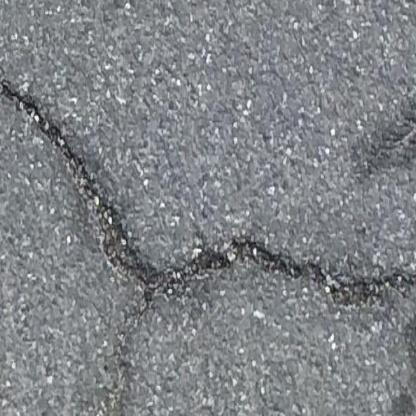Cracks: (0, 69, 416, 416), (383, 117, 416, 150)
